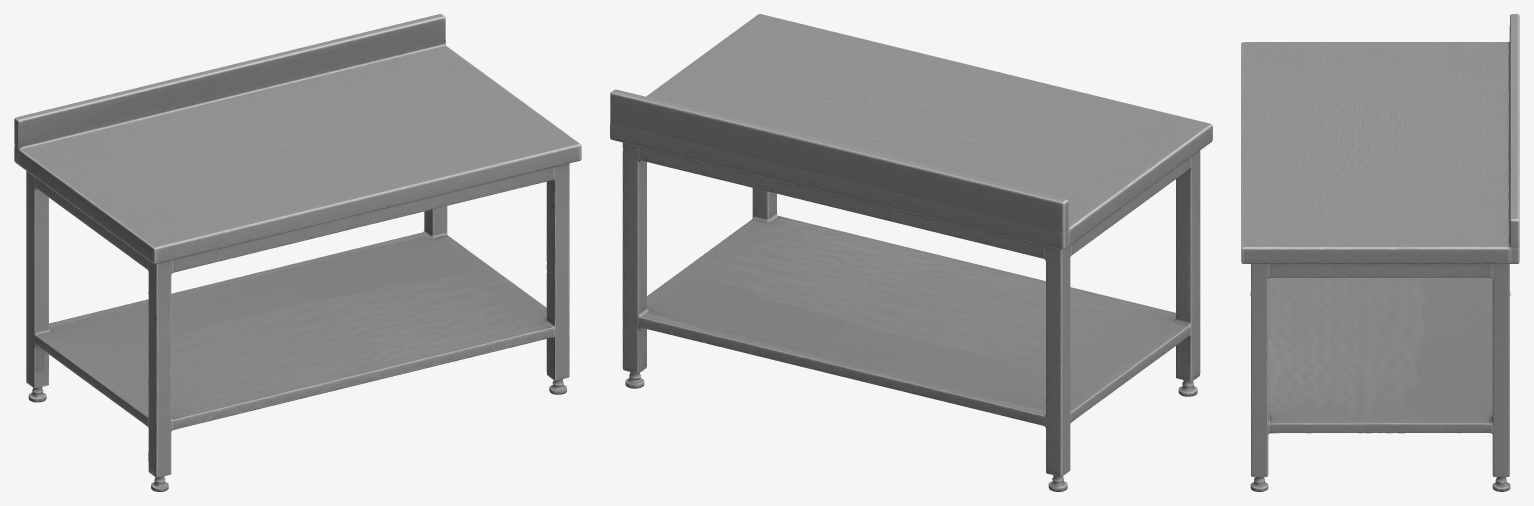
The model's file is Meshy_AI_스텐리테이블_20261119_texture.fbx.
3 views of the same model, side by side, from view 1: azimuth 30°, elevation 25°; view 2: azimuth 150°, elevation 25°; view 3: azimuth 270°, elevation 25° (orthographic). The views are drawn at different scales.
Visible parts, largest first — view 1: Mesh_0; view 2: Mesh_0; view 3: Mesh_0.
Part boxes in pixels (x1,y1,x2,y2): Mesh_0: [14, 14, 581, 491]; Mesh_0: [610, 14, 1212, 491]; Mesh_0: [1241, 14, 1519, 491].
Bounding box in the file's own units: 190 × 118 × 108.
1 material, 1 textured.
